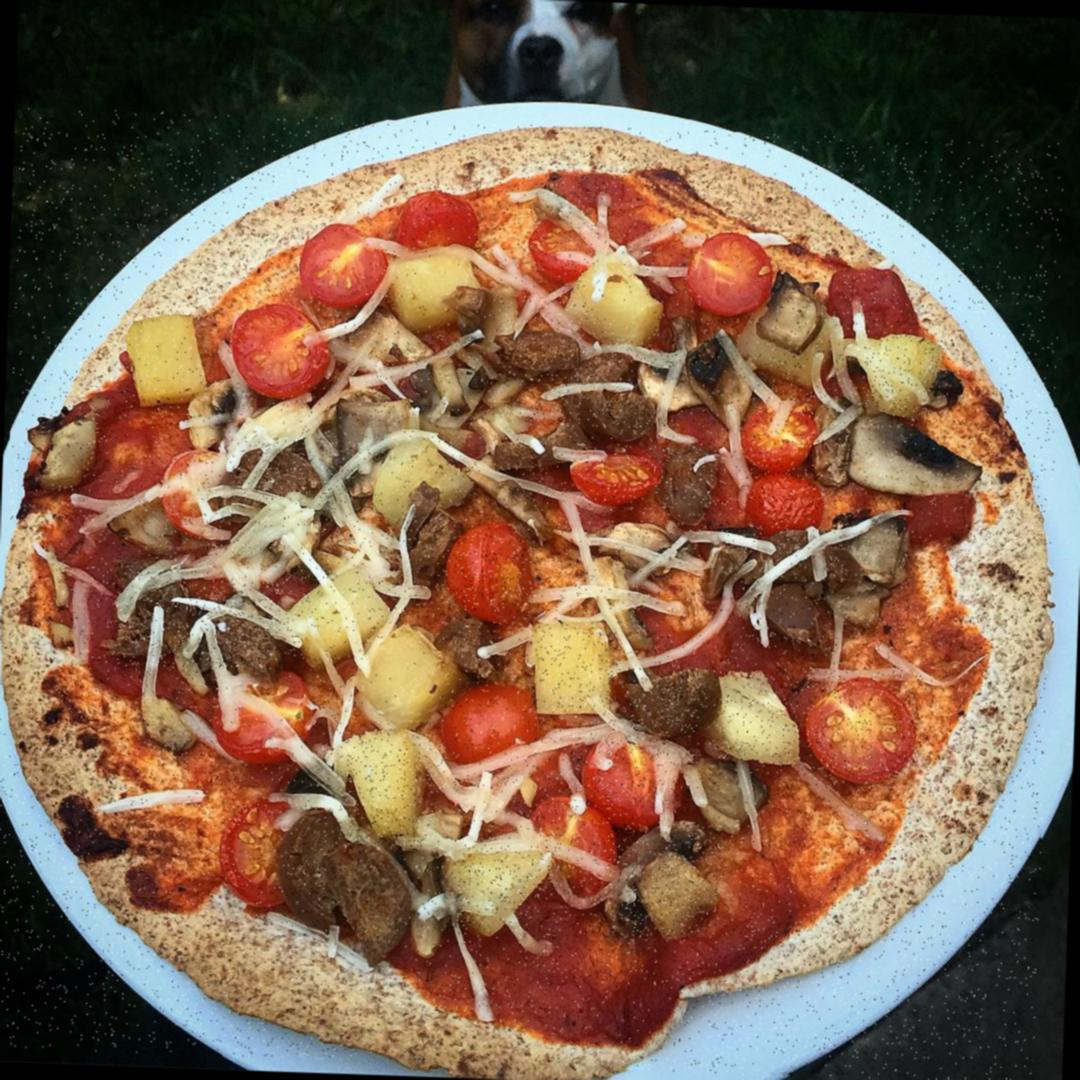Mushroom: (112, 576, 284, 671), (505, 340, 659, 430), (868, 414, 1003, 516), (608, 821, 722, 941), (774, 529, 888, 641), (324, 847, 414, 975), (234, 436, 358, 510), (686, 758, 758, 836), (626, 672, 708, 731), (664, 445, 723, 518)
Pineapple: (338, 730, 435, 852), (374, 435, 476, 521), (574, 258, 666, 353), (362, 615, 441, 723), (528, 622, 618, 716), (127, 318, 223, 404), (285, 564, 385, 646), (715, 674, 800, 768), (396, 251, 490, 334), (457, 842, 542, 929), (860, 336, 944, 414)
Pizza: (0, 107, 1066, 1080)
Tomatoes: (802, 669, 917, 790), (217, 658, 318, 763), (224, 801, 316, 915), (532, 798, 622, 896), (238, 310, 332, 396), (158, 448, 233, 548), (449, 688, 537, 769), (446, 534, 537, 612), (700, 234, 774, 320), (300, 220, 378, 295), (751, 394, 817, 477), (584, 736, 666, 802), (578, 442, 662, 500), (747, 475, 823, 538), (403, 192, 477, 249)
